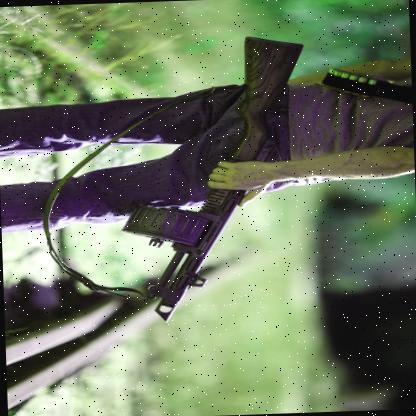rifle: (100, 32, 331, 322)
